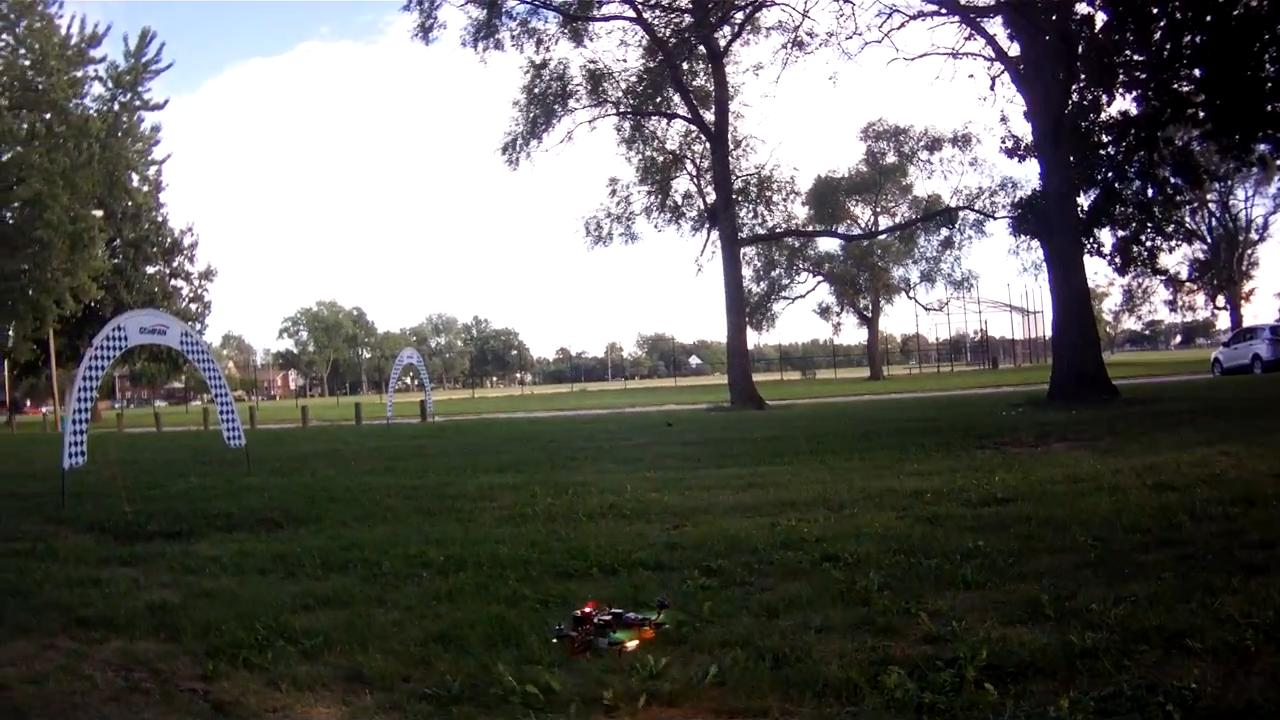gate: (59, 308, 247, 472), (382, 344, 435, 417)
